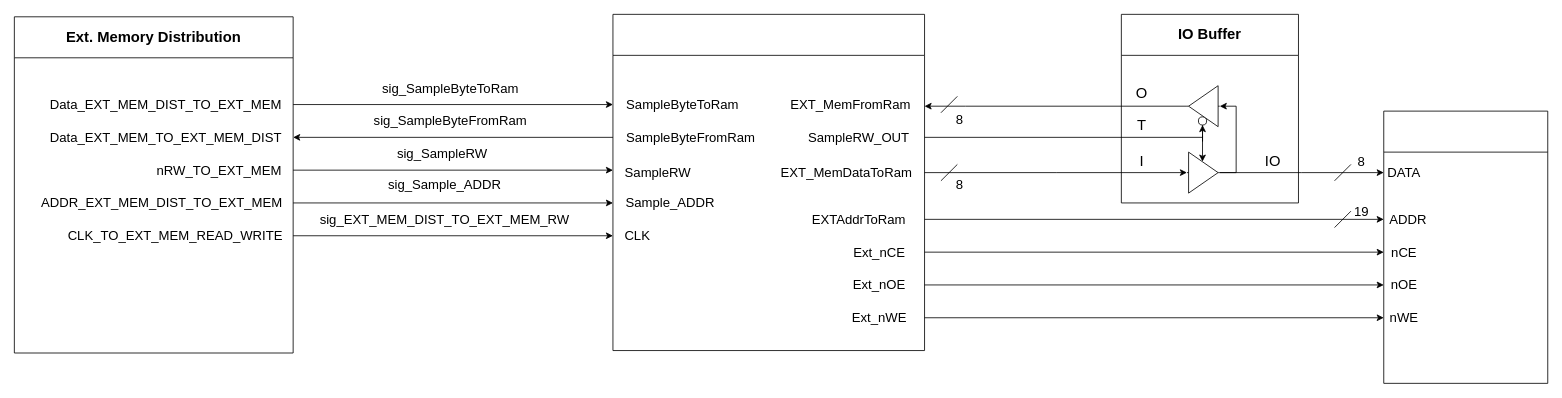
Some shapes in this 1562 by 398 pixel diagram are drawn without their labels. Here are the shapes that lost their labels. From the top down, the box of each, then its label:
(612, 14, 925, 351): Ext_ReadWrite
(1383, 110, 1548, 383): Ext. Sample Memory (SRAM IC)
